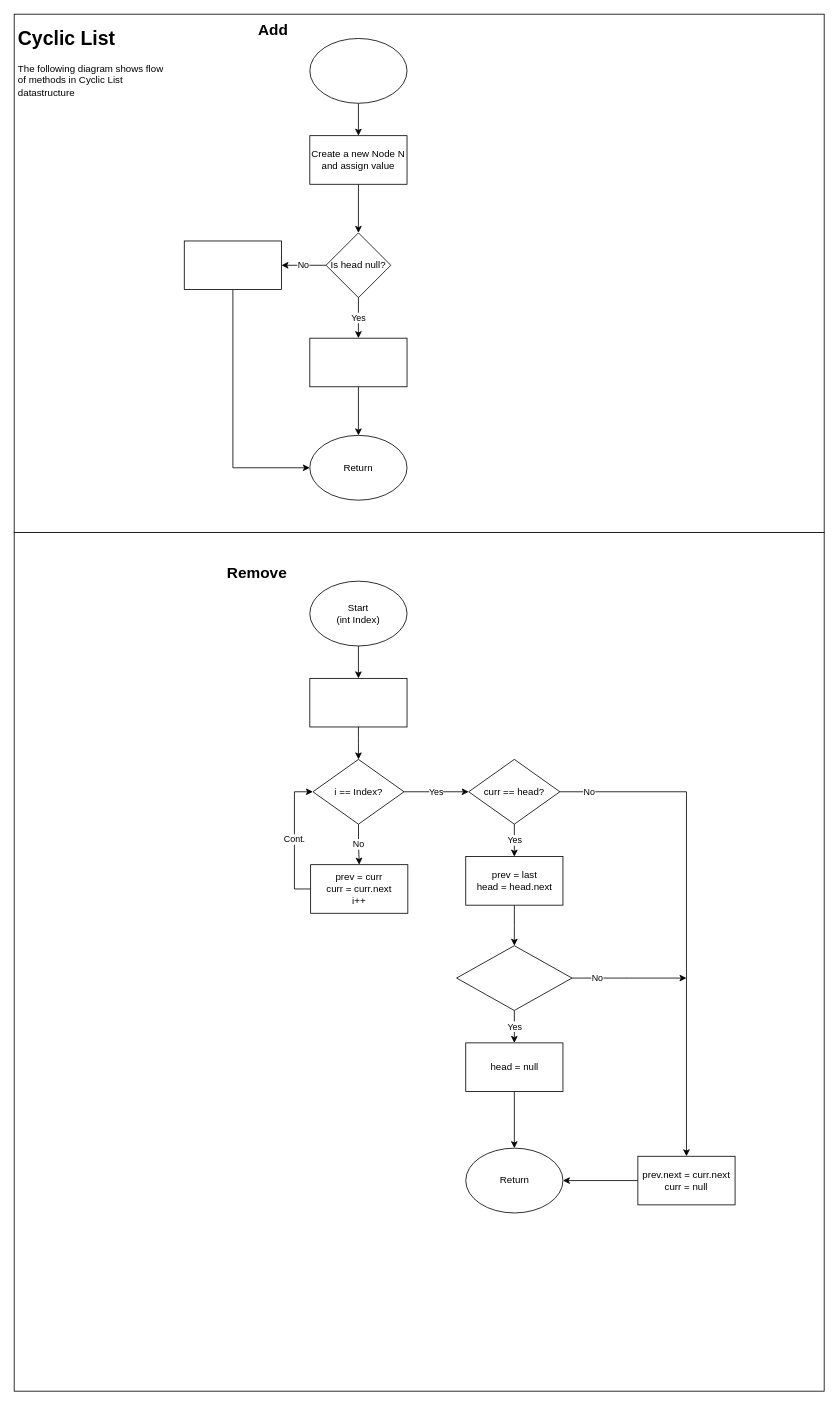
Image size: 838x1405. Some labels were removed from this diagram. Here are the shapes that lost their labels. From the top down, the centre of each, then its label:
At pixel 358 70: "Start (T val)".
At pixel 232 265: "last.next = N last = N last.next = head".
At pixel 358 362: "Set last and head to N".
At pixel 358 702: "Current = head Previous = null".
At pixel 514 977: "head == head.next".
